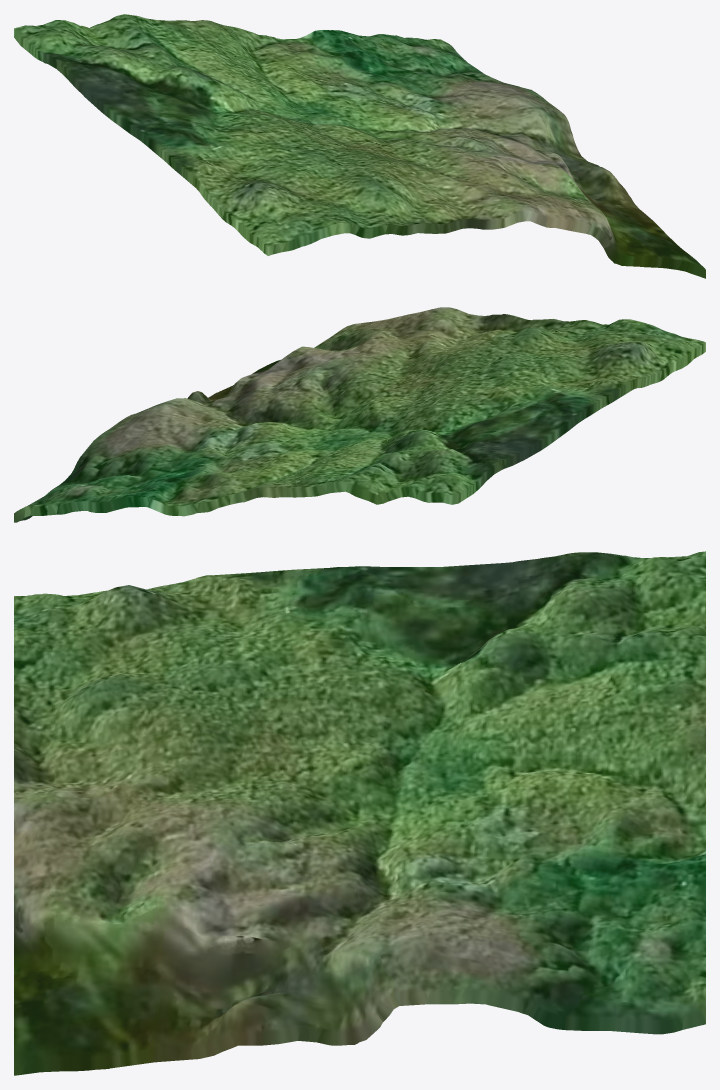
File: z20-167558-405172-h0-yup-uvflip-v3-world.glb
3 renders of one model, top to bottom at view 1: azimuth 30°, elevation 25°; view 2: azimuth 150°, elevation 25°; view 3: azimuth 270°, elevation 25°, orthographic. The views are drawn at different scales.
Bounding box in the file's own units: 30.16 × 11.44 × 30.32.
Materials: 1 (1 with a texture image).
